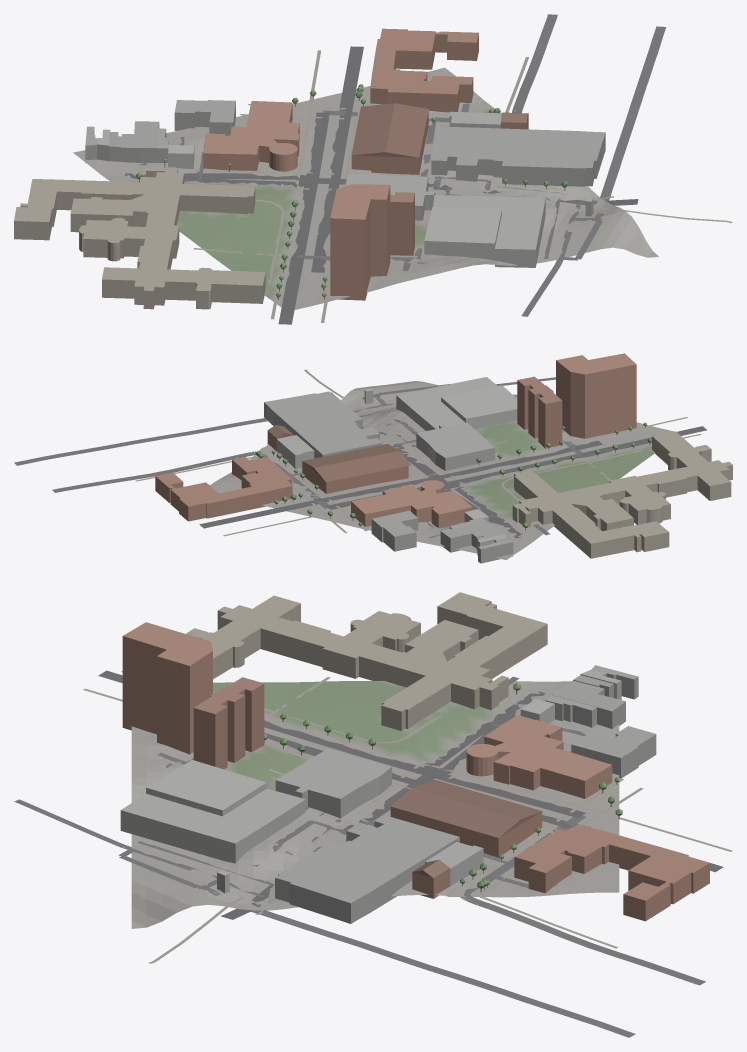
File: tile_-7_4.glb
The picture shows the model from 3 angles, top to bottom: view 1: azimuth 30°, elevation 25°; view 2: azimuth 150°, elevation 25°; view 3: azimuth 270°, elevation 25°; orthographic projection. The views are drawn at different scales.
Visible parts, largest first — view 1: buildings, terrain, roads, props; view 2: buildings, terrain, roads, props; view 3: buildings, terrain, roads, props.
Boxes of the visible parts, x1,y1,x2,y2 form: buildings: [14, 28, 605, 309]; terrain: [73, 67, 658, 309]; roads: [125, 14, 732, 324]; props: [136, 84, 568, 299]; buildings: [155, 353, 732, 563]; terrain: [210, 381, 673, 559]; roads: [14, 369, 706, 538]; props: [256, 422, 651, 530]; buildings: [120, 592, 709, 923]; terrain: [131, 681, 619, 928]; roads: [14, 670, 732, 1037]; props: [264, 683, 622, 892].
Size of the model in its own units: 500 by 74.16 by 377.
